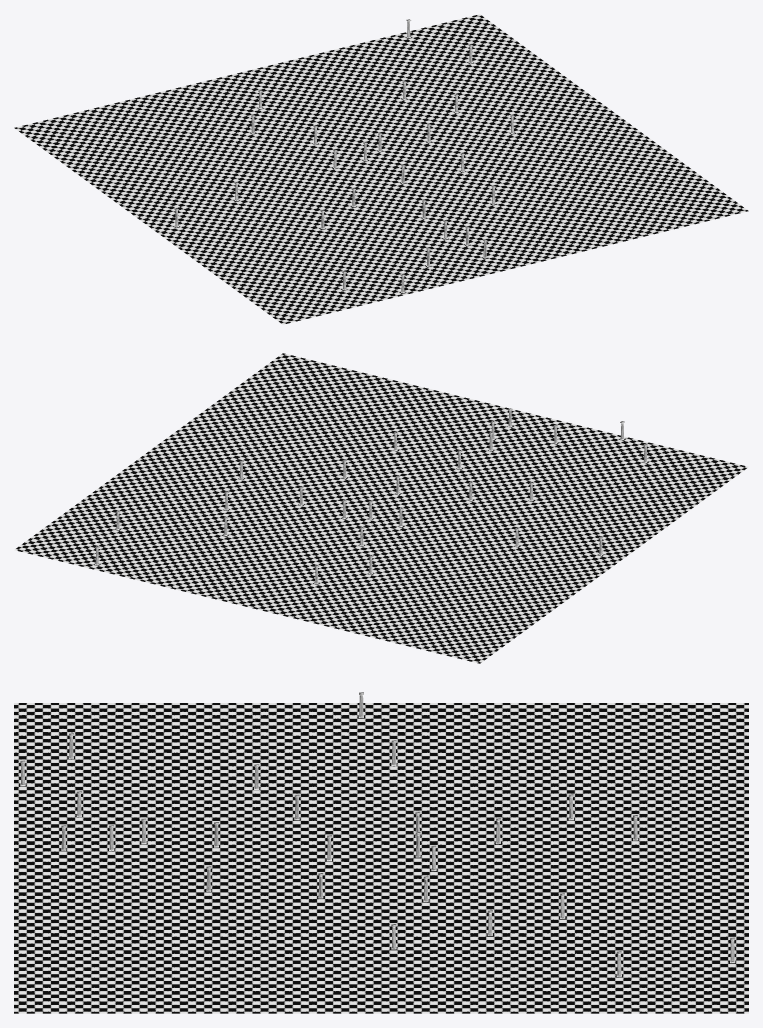
The model's file is Vaporwave_Columns.glb.
The picture shows the model from 3 angles, top to bottom: view 1: azimuth 30°, elevation 25°; view 2: azimuth 150°, elevation 25°; view 3: azimuth 270°, elevation 25°; orthographic projection. The views are drawn at different scales.
Parts seen in each view (by area): view 1: GridPlane, Cylinder_2; view 2: GridPlane, Cylinder_2; view 3: GridPlane, Cylinder_2.
Boxes of the visible parts, left/top/right/bottom form: GridPlane: left=14, top=14, right=748, bottom=324; Cylinder_2: left=174, top=19, right=514, bottom=293; GridPlane: left=14, top=353, right=748, bottom=663; Cylinder_2: left=94, top=408, right=648, bottom=584; GridPlane: left=14, top=703, right=748, bottom=1013; Cylinder_2: left=20, top=692, right=735, bottom=976.
Bounding box in the file's own units: 96 × 3.4 × 96.
2 materials, 2 textured.
